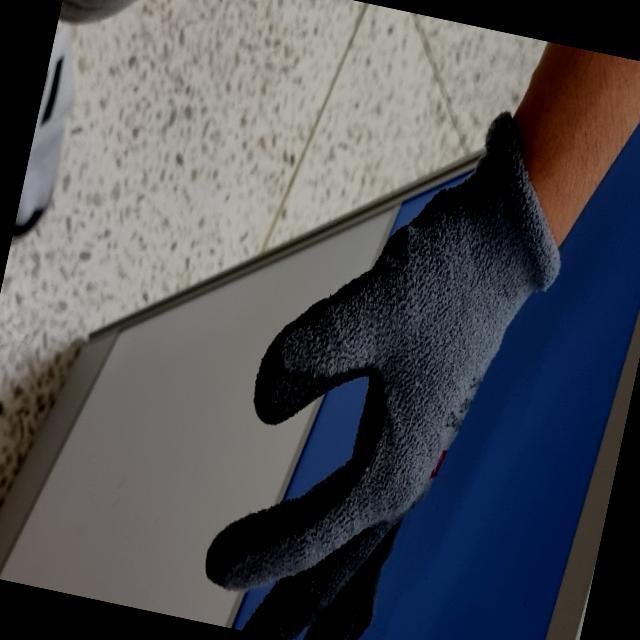Gloves: (202, 105, 571, 640)
